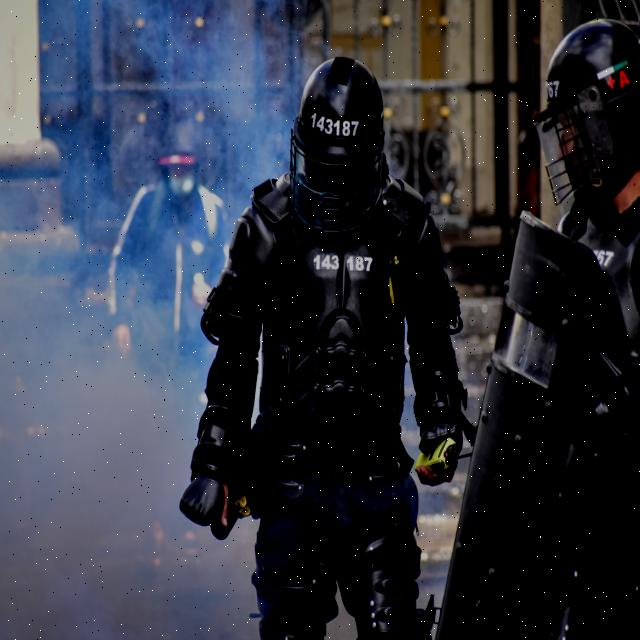police: (174, 39, 496, 604)
